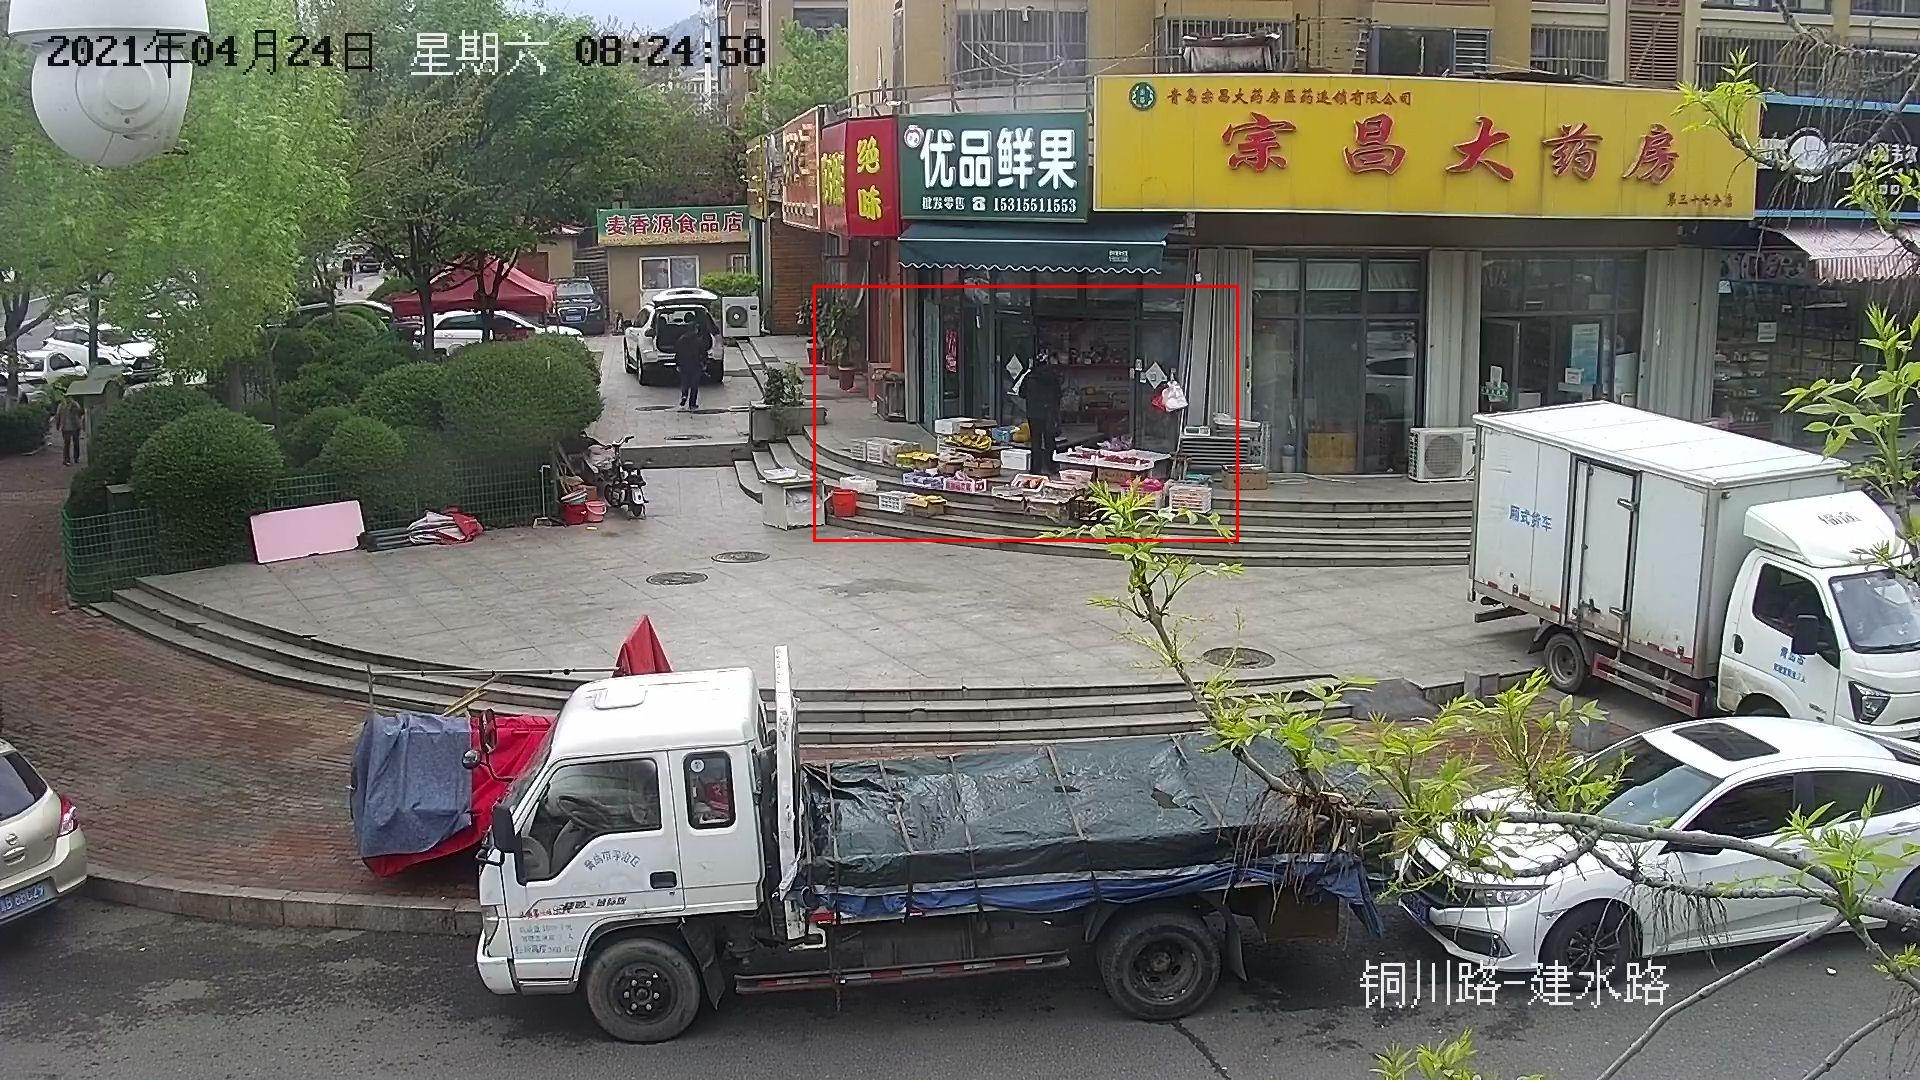umbrella: (390, 251, 558, 313)
